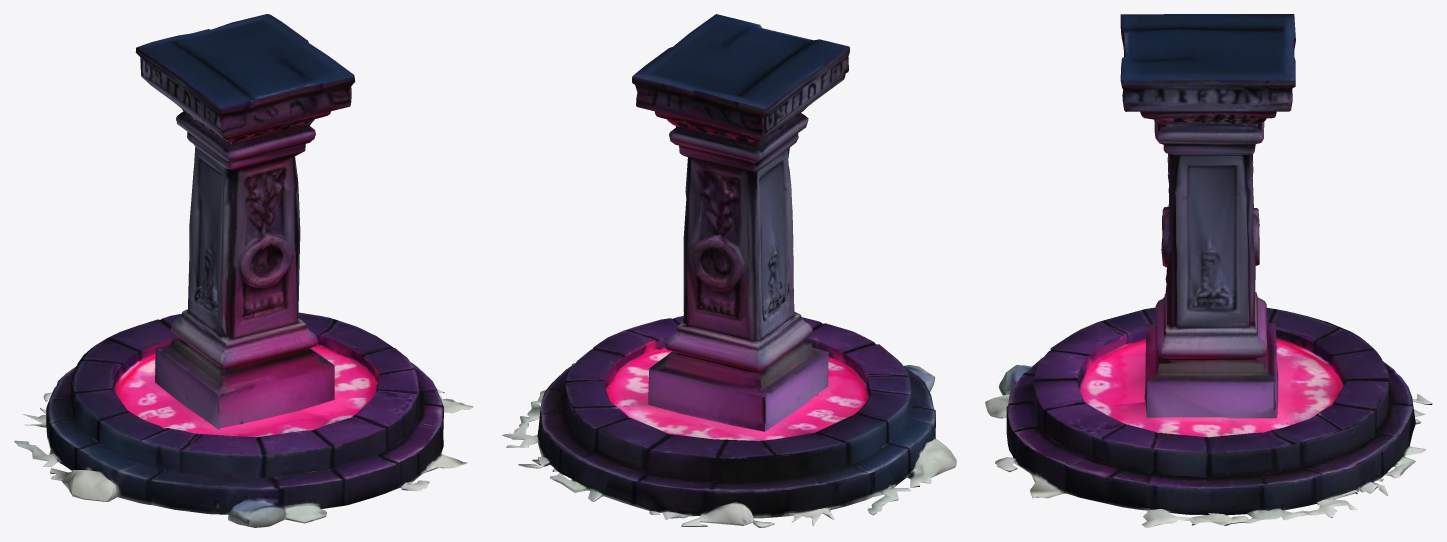
Rendered from yggdrasil-shrine-urd-left.collider.glb.
The picture shows the model from 3 angles, left to right: view 1: azimuth 30°, elevation 25°; view 2: azimuth 150°, elevation 25°; view 3: azimuth 270°, elevation 25°; orthographic projection. The views are drawn at different scales.
Visible parts, largest first — view 1: temp_mesh.ply; view 2: temp_mesh.ply; view 3: temp_mesh.ply.
Boxes of the visible parts, box(x1,y1,x2,y2) form: temp_mesh.ply: box(14, 14, 473, 527); temp_mesh.ply: box(502, 14, 956, 527); temp_mesh.ply: box(985, 14, 1432, 527).
Bounding box in the file's own units: 1.97 × 1.81 × 1.89.
Materials: 1 (1 with a texture image).
